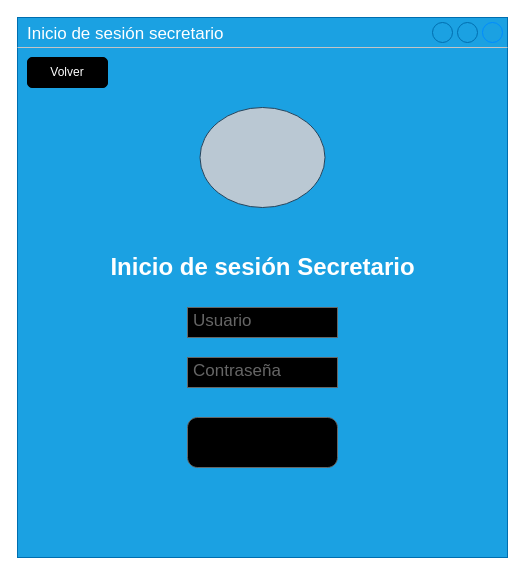
This 525x575 diagram has some shape labels left out. Here are the shapes that lost their labels. From the top down, the centre of each, then its label:
At point (262, 157): "Imagen".
At point (262, 442): "Ingresar".
